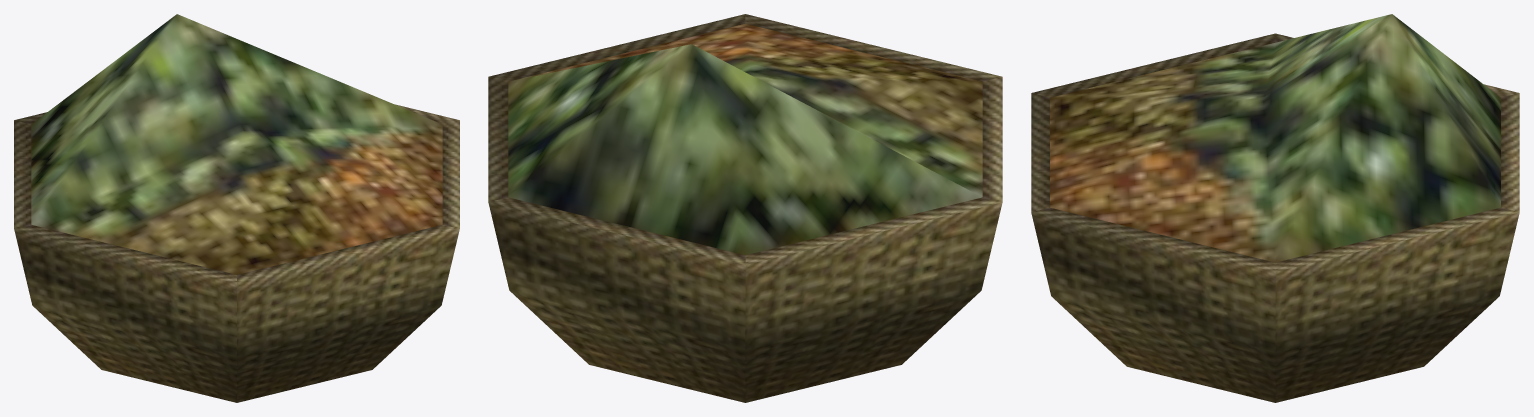
File: hot_minga_basket.glb
The picture shows the model from 3 angles, left to right: view 1: azimuth 30°, elevation 25°; view 2: azimuth 150°, elevation 25°; view 3: azimuth 270°, elevation 25°; orthographic projection. The views are drawn at different scales.
Parts seen in each view (by area): view 1: hot_minga_basket; view 2: hot_minga_basket; view 3: hot_minga_basket.
Part boxes in pixels (x1,y1,x2,y2): hot_minga_basket: (14, 14, 459, 402); hot_minga_basket: (488, 14, 1002, 402); hot_minga_basket: (1031, 14, 1519, 402).
Size of the model in its own units: 1.77 by 1.08 by 1.53.
1 material, 1 textured.
